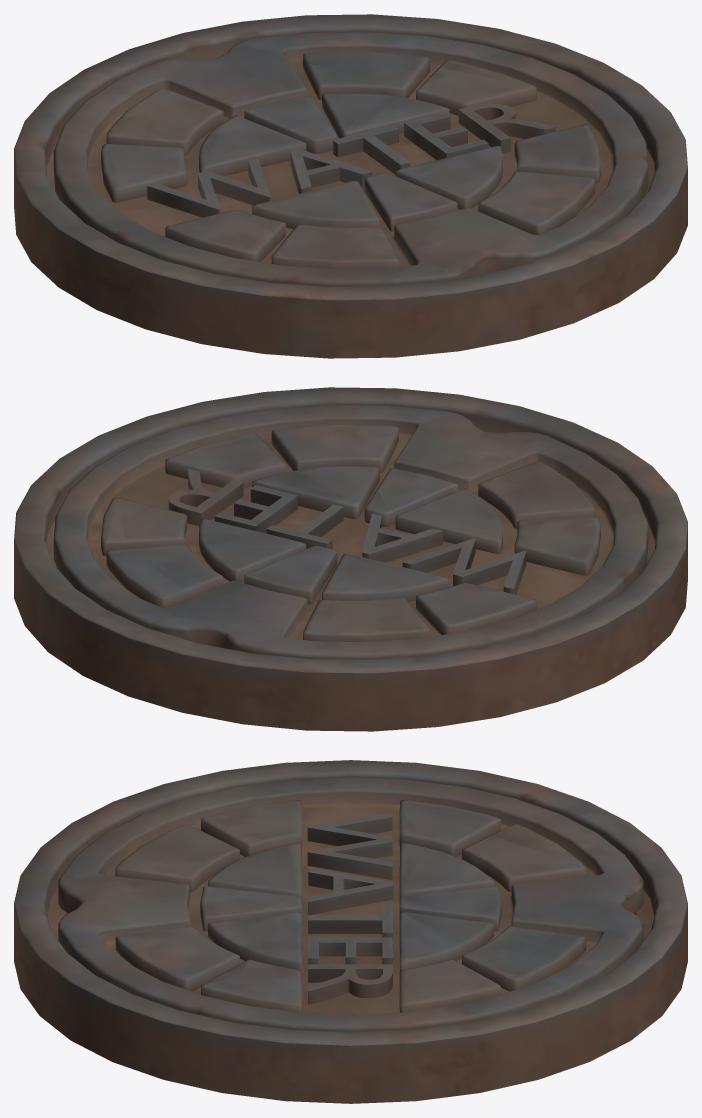
Rendered from manhole.glb.
The picture shows the model from 3 angles, top to bottom: view 1: azimuth 30°, elevation 25°; view 2: azimuth 150°, elevation 25°; view 3: azimuth 270°, elevation 25°; orthographic projection.
Parts seen in each view (by area): view 1: water_manhole_cover_frame; view 2: water_manhole_cover_frame; view 3: water_manhole_cover_frame.
Part boxes in pixels (box(x1,y1,x2,y2)): water_manhole_cover_frame: box(14, 14, 687, 358); water_manhole_cover_frame: box(14, 387, 687, 731); water_manhole_cover_frame: box(14, 760, 687, 1103).
Bounding box in the file's own units: 0.6908 × 0.0676 × 0.6908.
Materials: 1 (1 with a texture image).
